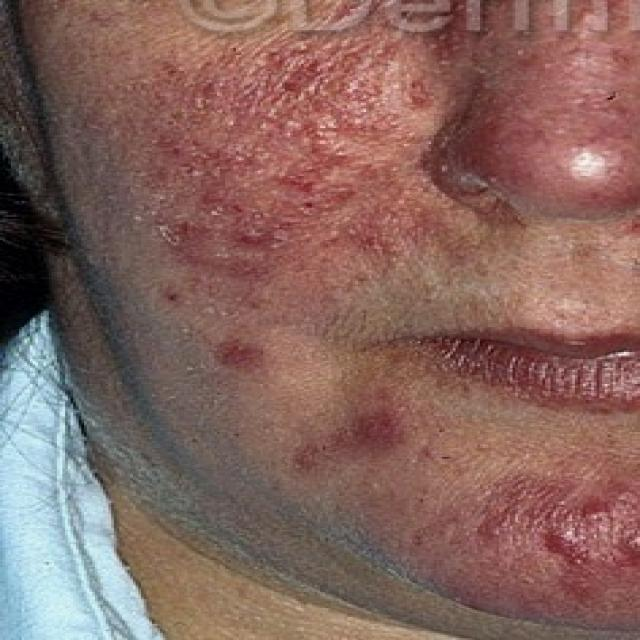Rosacea: (124, 21, 411, 360), (286, 410, 640, 581), (443, 30, 640, 201)
